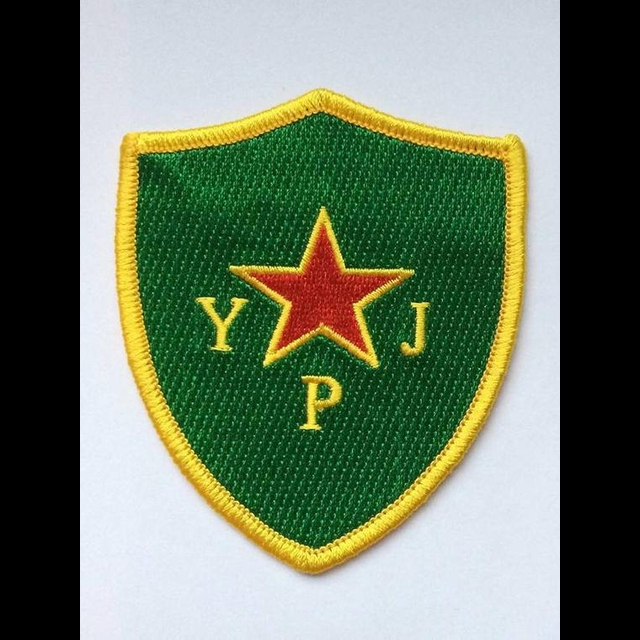YPJ: (196, 201, 440, 444)
